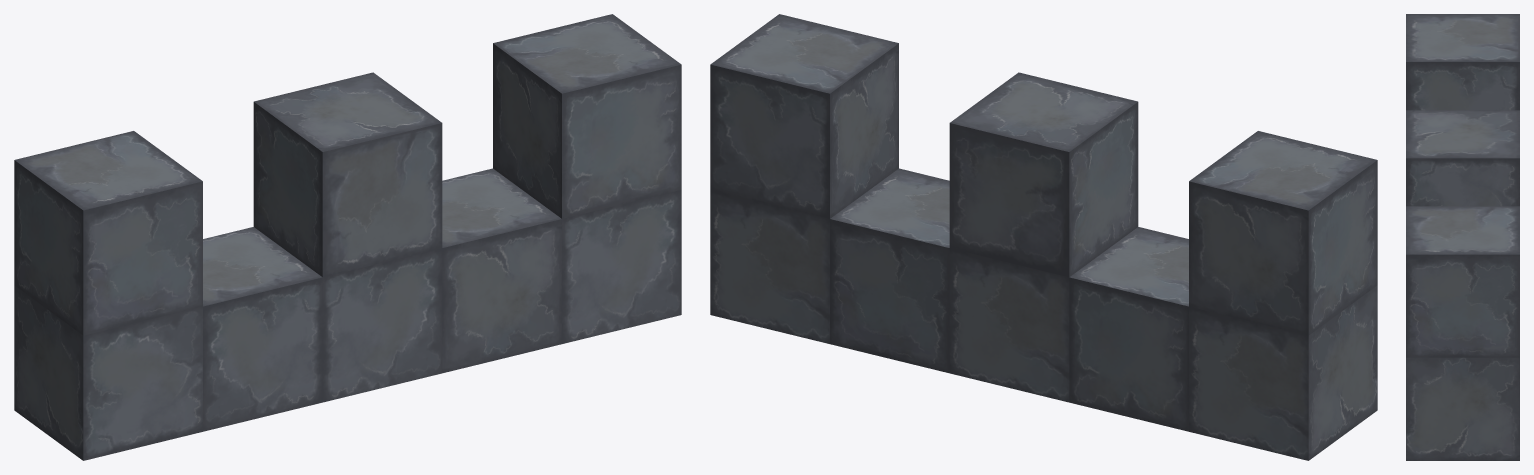
File: Castle Deco 2.fbx
3 views of the same model, side by side, from view 1: azimuth 30°, elevation 25°; view 2: azimuth 150°, elevation 25°; view 3: azimuth 270°, elevation 25° (orthographic). The views are drawn at different scales.
Visible parts, largest first — view 1: Castle Deco 2; view 2: Castle Deco 2; view 3: Castle Deco 2.
Boxes of the visible parts, x1=… form: Castle Deco 2: x1=14, y1=14, x2=681, y2=460; Castle Deco 2: x1=710, y1=14, x2=1377, y2=460; Castle Deco 2: x1=1406, y1=14, x2=1519, y2=460.
Bounding box in the file's own units: 3.75 × 1.5 × 0.75.
